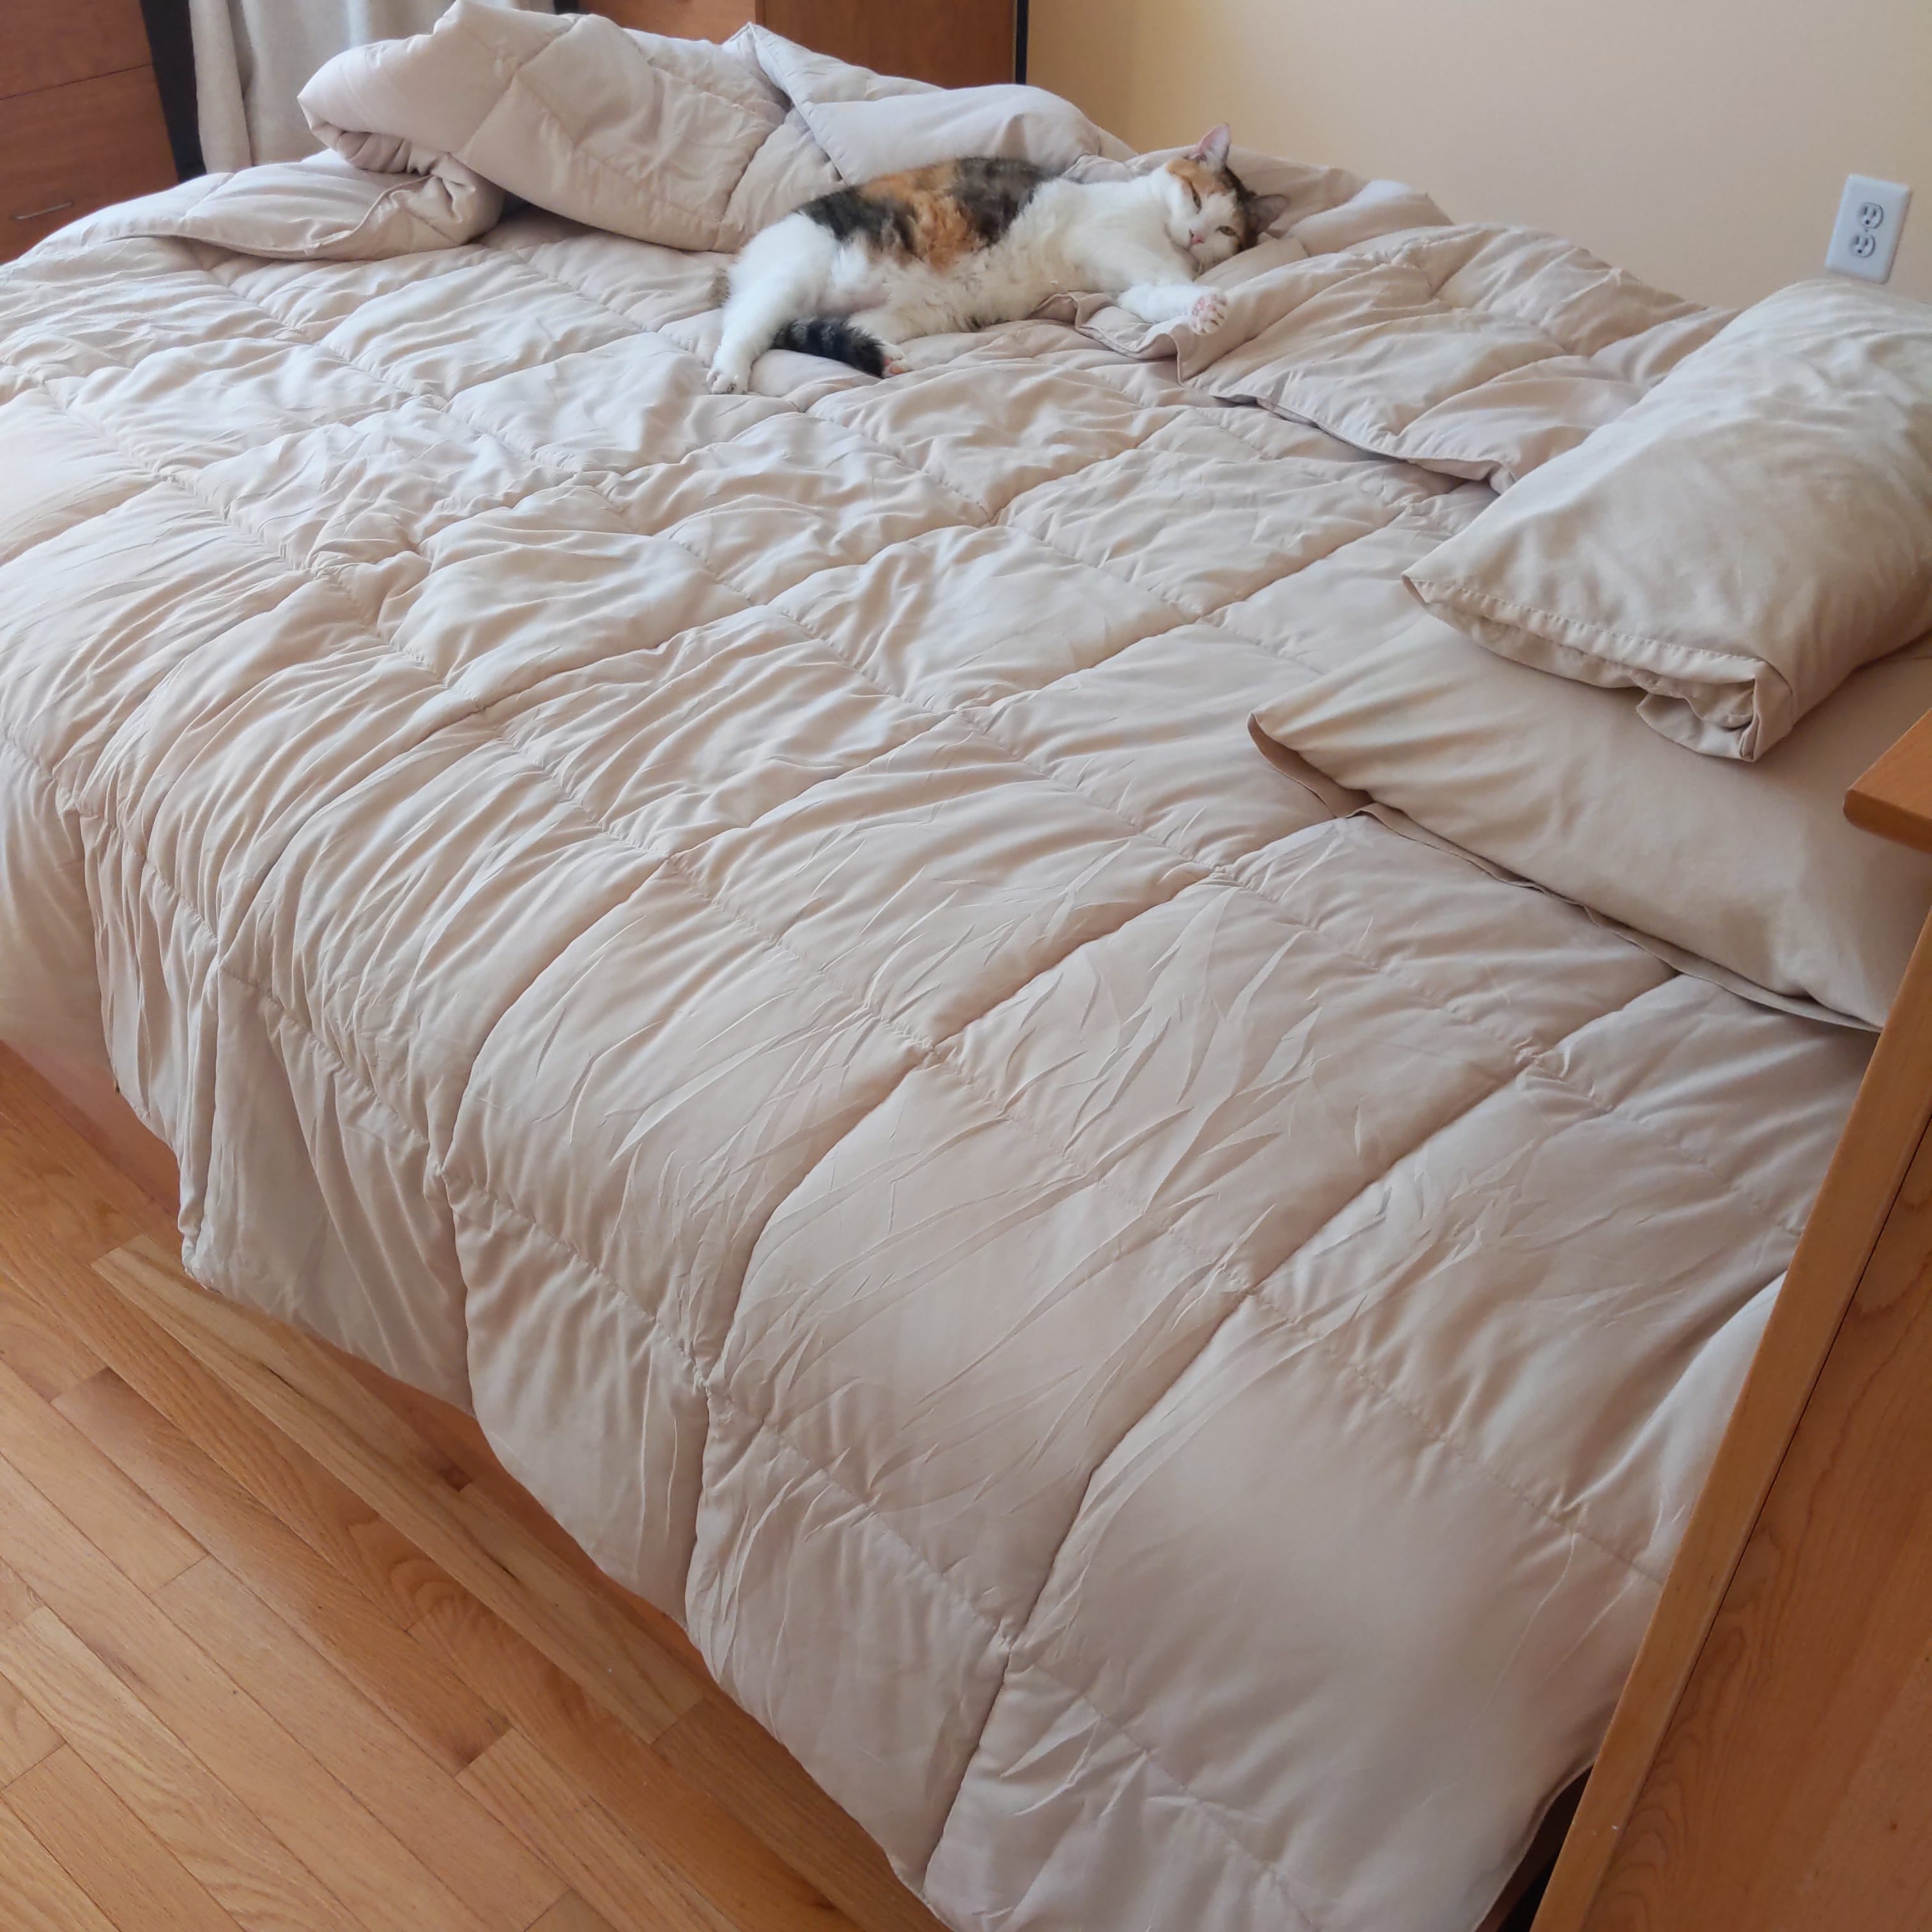Calico: (706, 120, 1292, 396)
